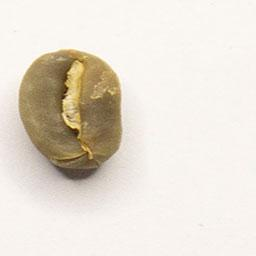peaberry: (16, 47, 127, 173)
